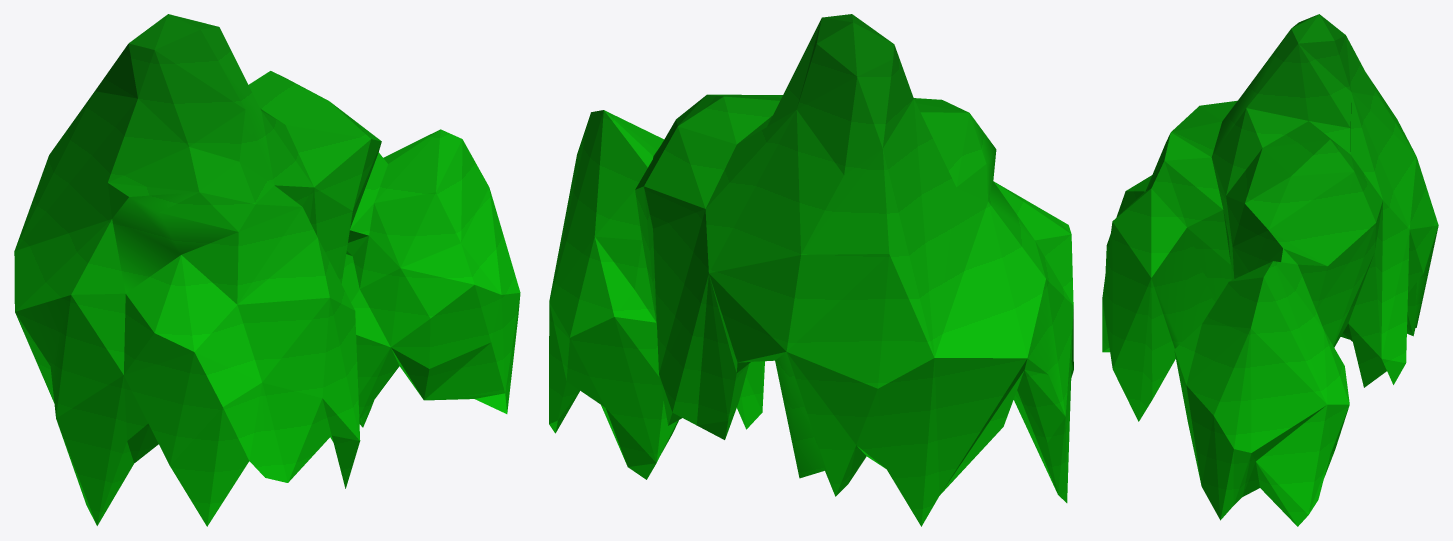
The model's file is Prefab_Foliage_Tree_Willow_Leaves_A.glb.
3 views of the same model, side by side, from view 1: azimuth 30°, elevation 25°; view 2: azimuth 150°, elevation 25°; view 3: azimuth 270°, elevation 25° (orthographic). The views are drawn at different scales.
Parts seen in each view (by area): view 1: WillowTree_B_Trunk.002; view 2: WillowTree_B_Trunk.002; view 3: WillowTree_B_Trunk.002.
Part boxes in pixels (left/top/right/bottom): WillowTree_B_Trunk.002: left=14, top=14, right=520, bottom=526; WillowTree_B_Trunk.002: left=549, top=14, right=1073, bottom=526; WillowTree_B_Trunk.002: left=1102, top=14, right=1438, bottom=526.
Size of the model in its own units: 14.94 by 14.25 by 10.68.
1 material, 1 textured.
